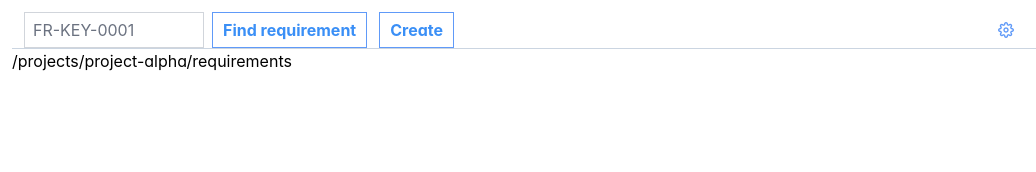
ActionBar › navigates to the requirement create route when Create is clicked on requirement routes.
Step 1. Click the button "Create" → [417, 30], box left=379, top=12, right=454, bottom=48
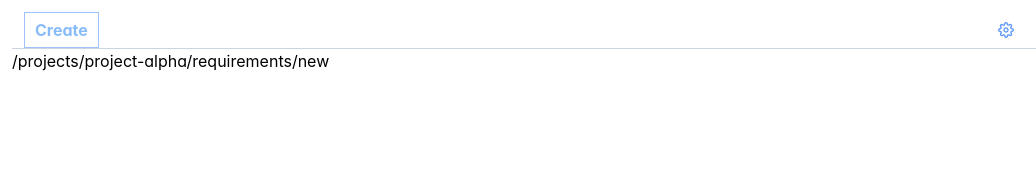
Result: the text named "Current route" reads "/projects/project-alpha/requirements/new" at left=12, top=51, right=329, bottom=71
